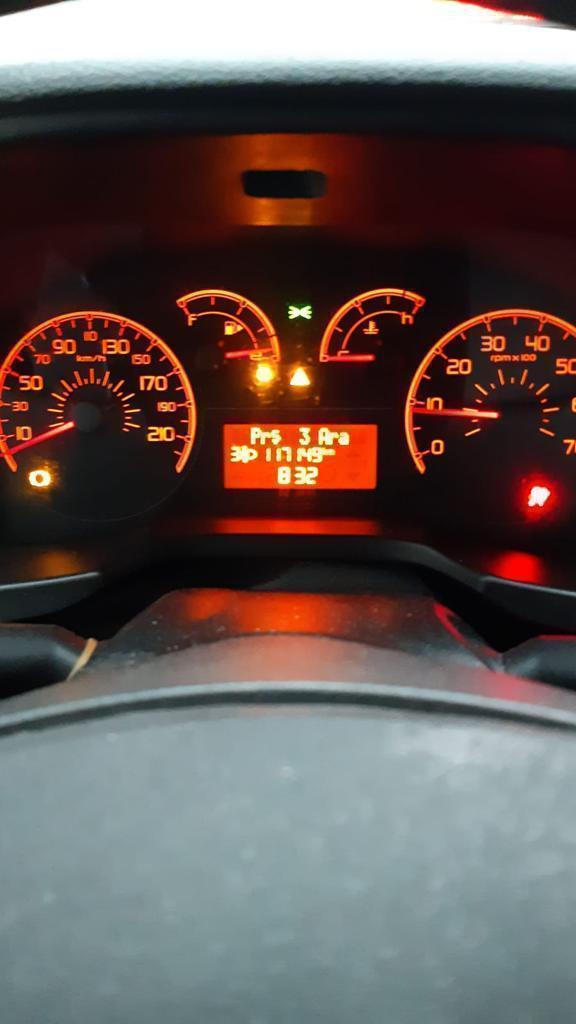1: (264, 446, 271, 462), (275, 446, 281, 462), (296, 447, 301, 461)
2: (306, 465, 319, 485)
3: (297, 425, 311, 445), (293, 465, 306, 485), (229, 445, 241, 462)
4: (301, 446, 311, 463)
7: (281, 445, 292, 462)
8: (275, 464, 291, 485)
9: (311, 446, 323, 463)
X: (316, 426, 329, 446), (249, 426, 260, 445), (270, 428, 282, 445), (339, 430, 350, 446), (261, 430, 271, 445), (329, 431, 338, 445), (328, 448, 336, 455), (323, 447, 328, 456)
odometer: (216, 420, 380, 494)
